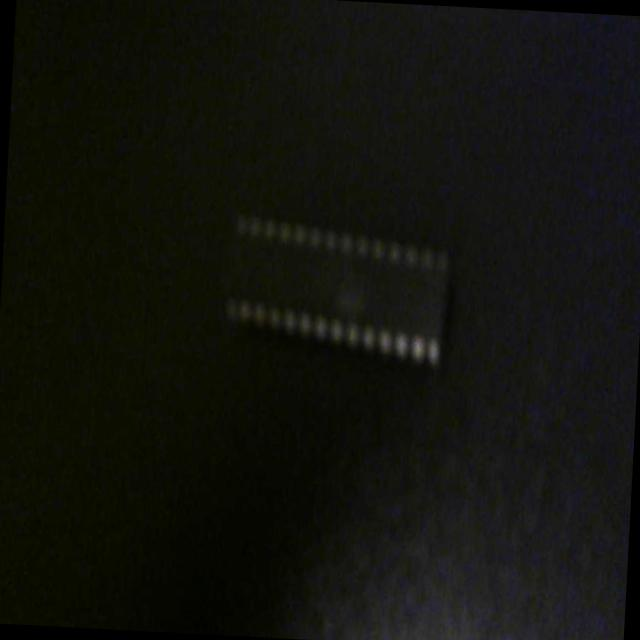atmega: (214, 202, 458, 378)
